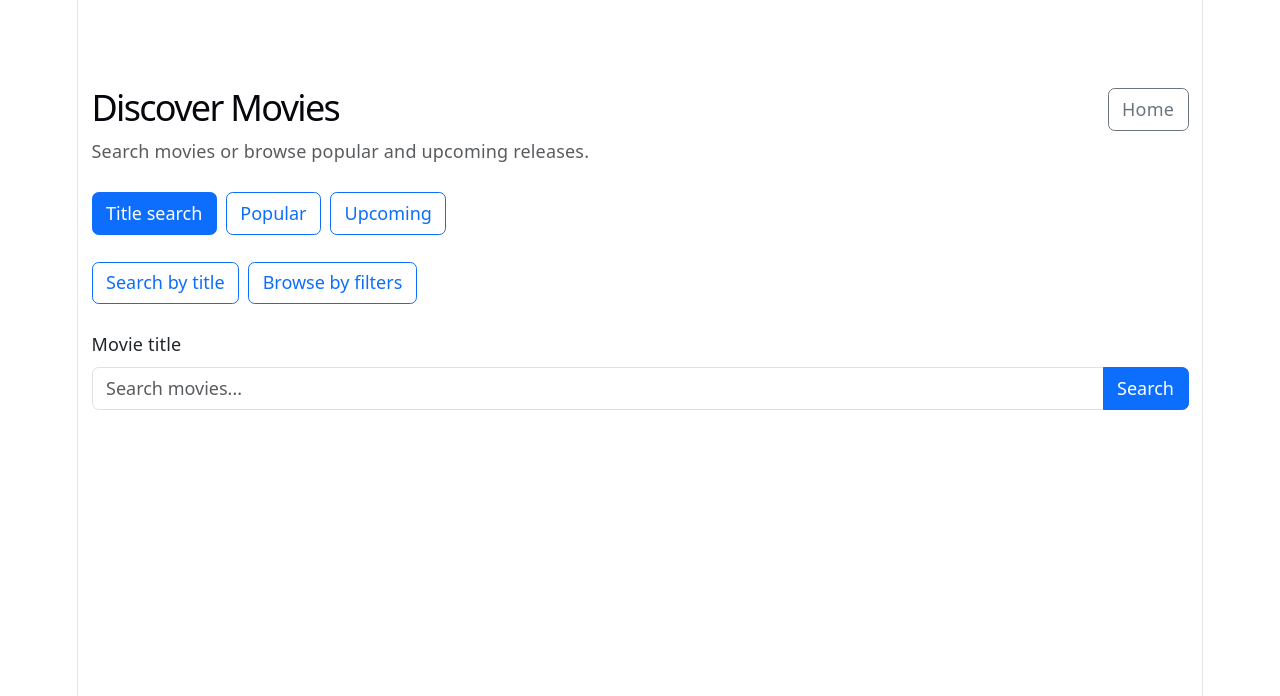
it: preserves search results and pagination while browsing categories
The width and height of the screenshot is (1280, 696).
Type "Titanic" into the search field labelled "Movie title".
click(598, 388); type("Titanic")  # box [92,367,1104,410]
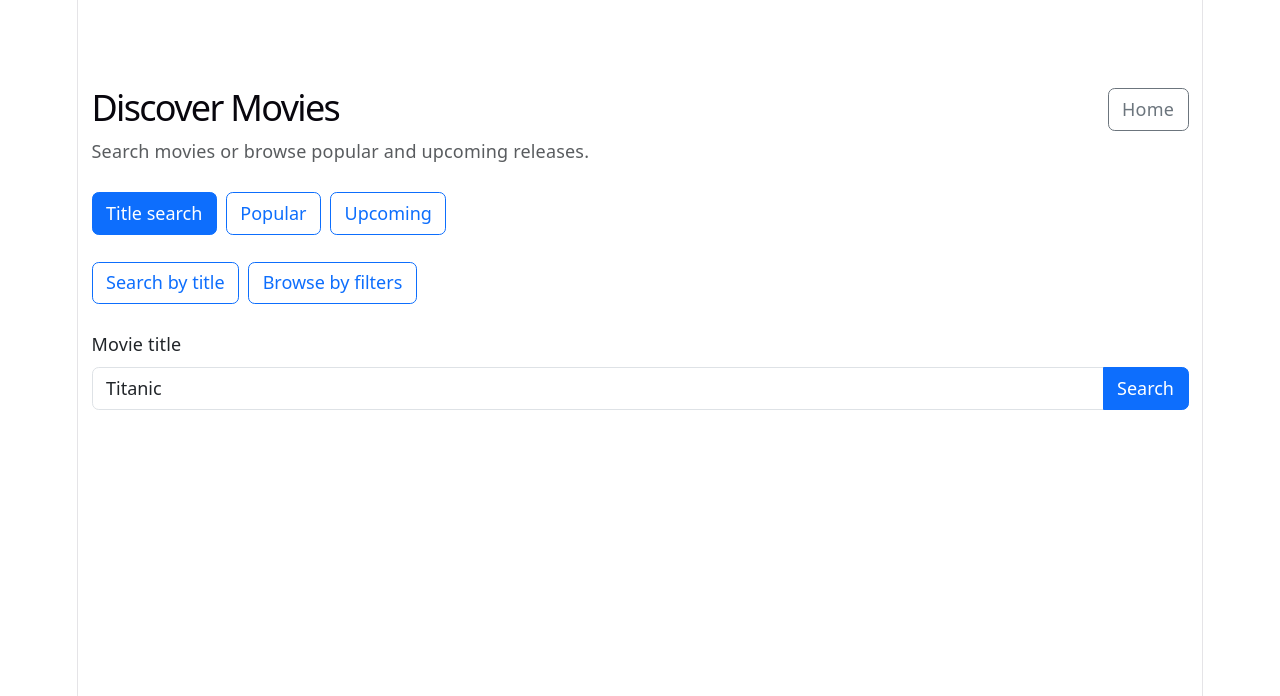
Submit the form, box [92,331,1188,410]
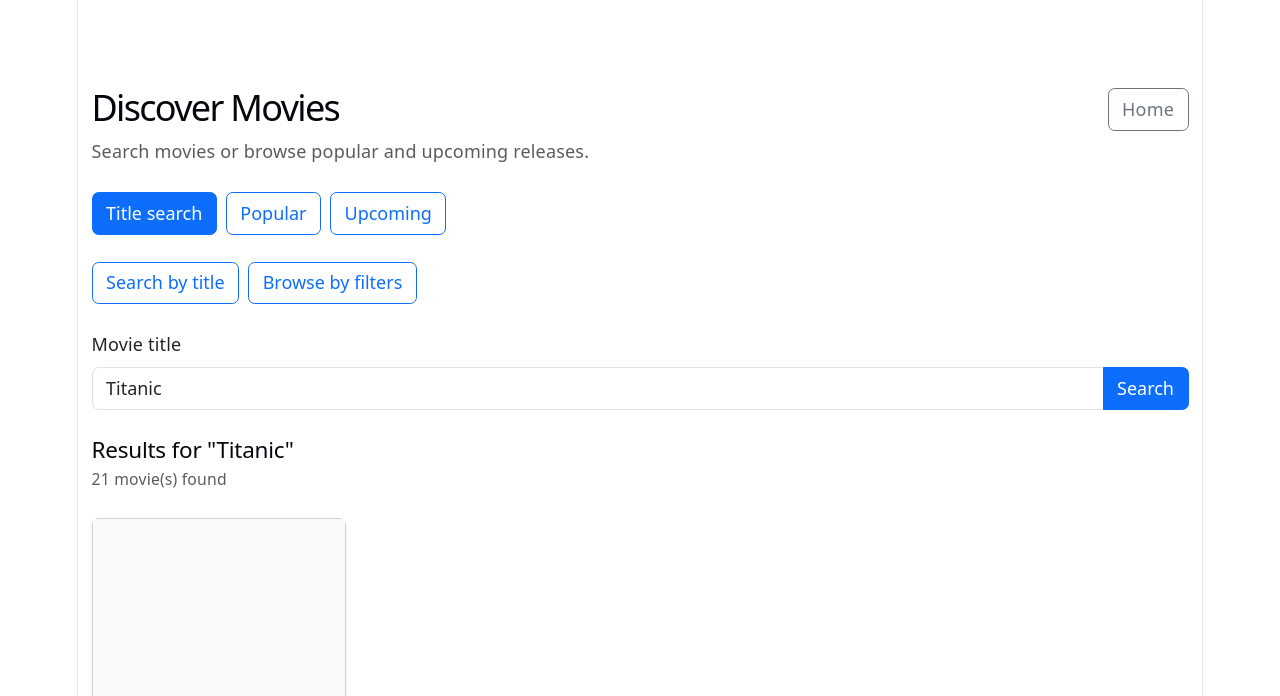
Click the button "Popular".
click(273, 213)  # box [226,192,321,235]
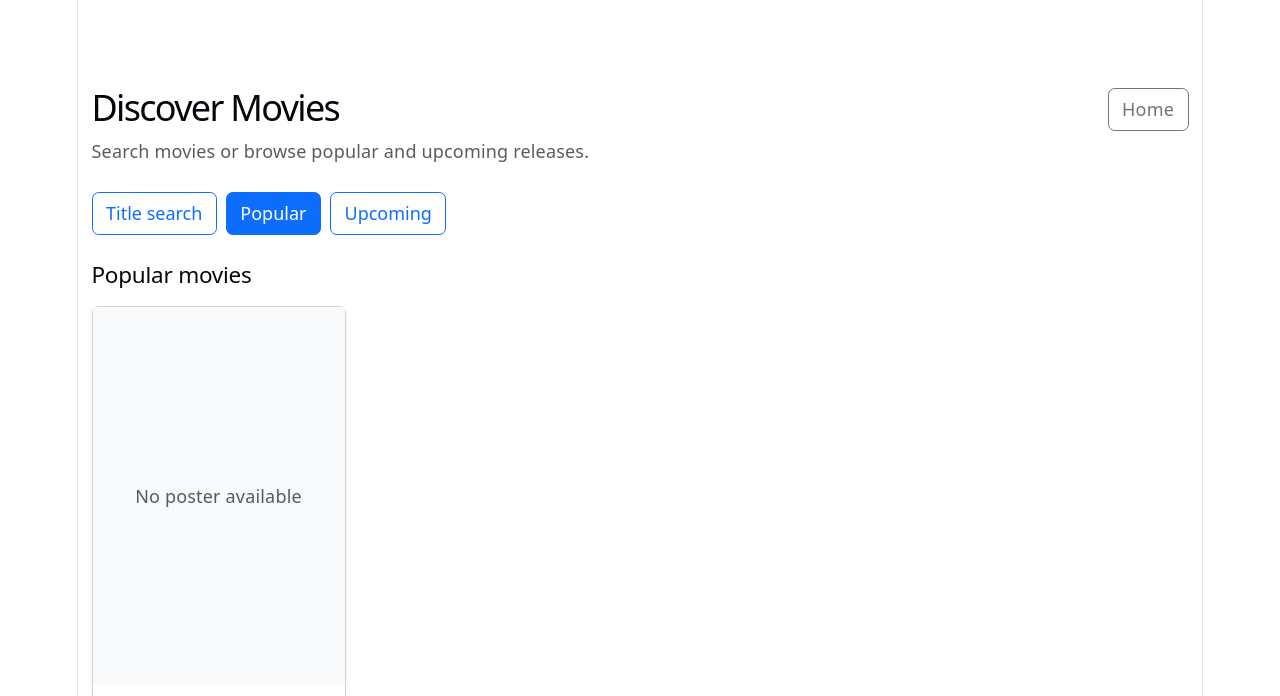
Click the button "Title search".
click(154, 213)  # box [92,192,217,235]
(page scrolled)
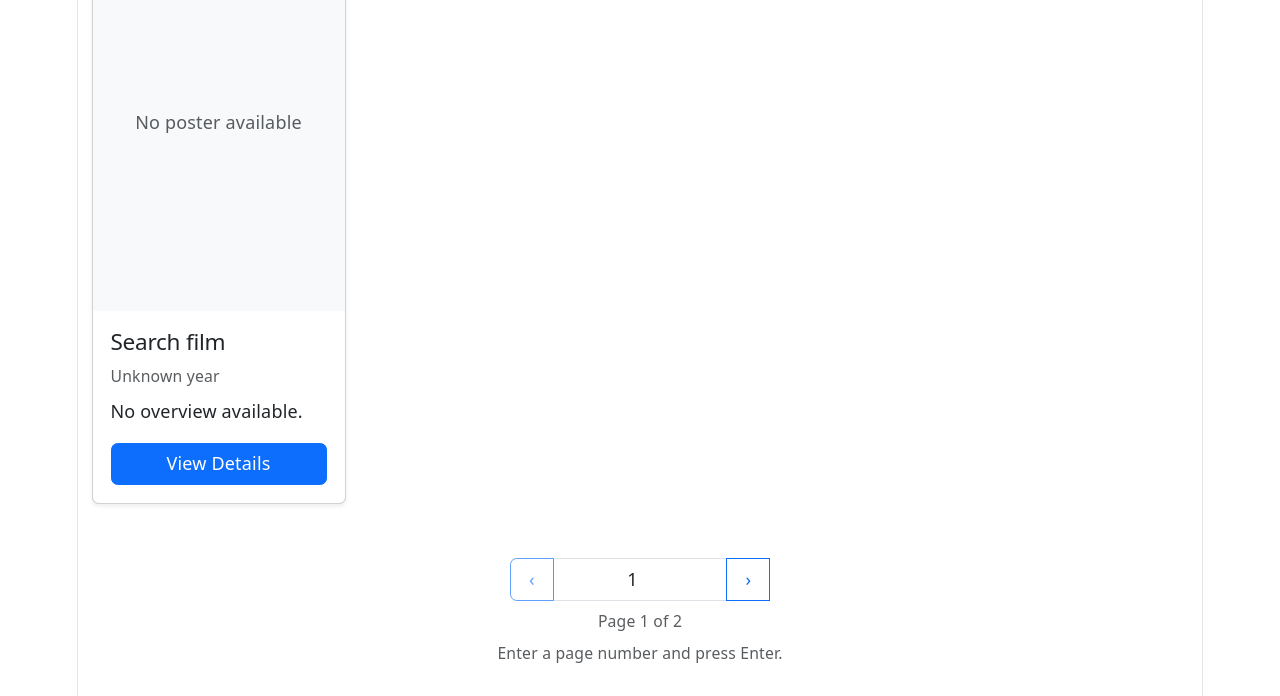
Expected: the heading "Search film" is shown, [110,326,225,357]
Click the button named "Next".
click(748, 579)  # box [726,558,770,600]
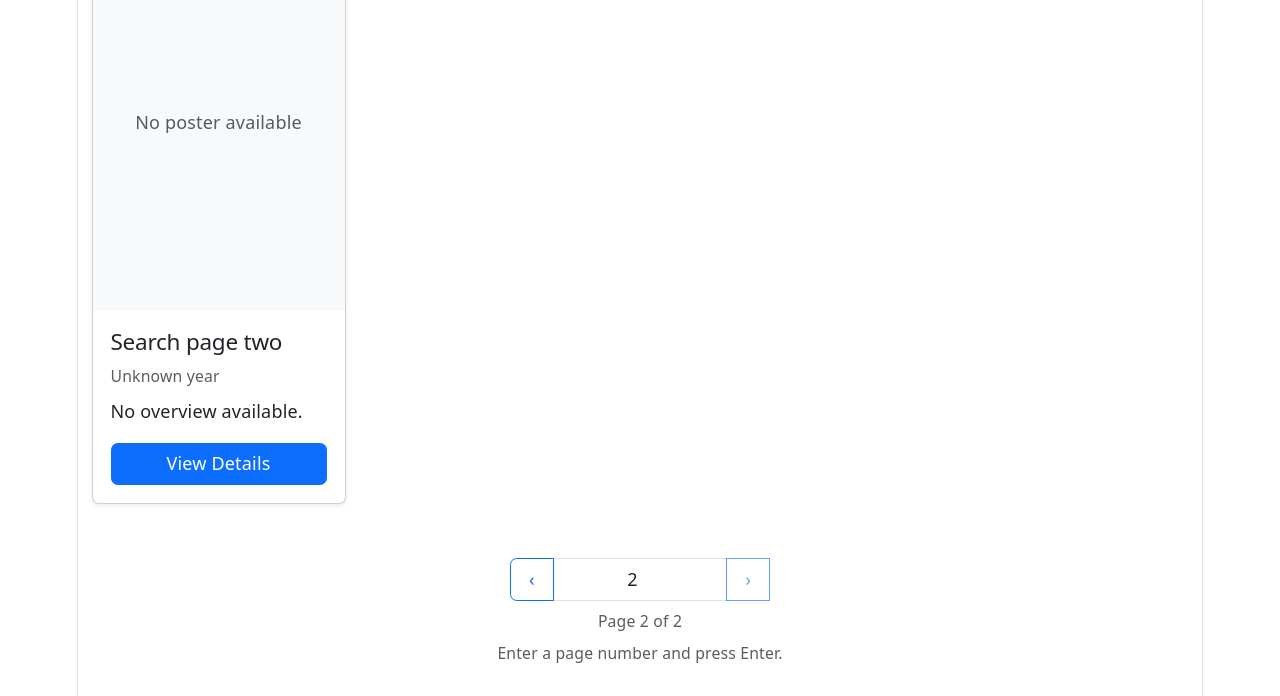
Expected: the heading "Search page two" is shown, [110,326,282,357]
